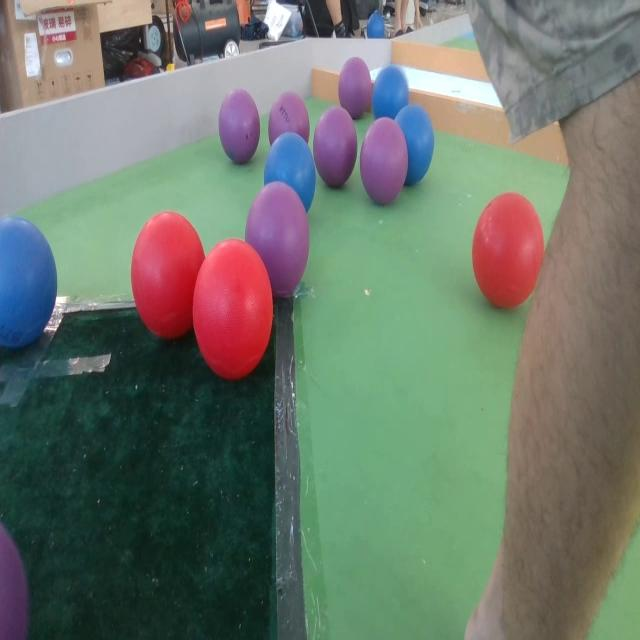blue: (0, 212, 58, 344), (265, 132, 314, 214), (394, 102, 436, 188), (372, 66, 409, 127)
invalid: (250, 183, 312, 297), (355, 110, 406, 210), (314, 105, 354, 189), (218, 88, 259, 165), (268, 88, 308, 152), (342, 59, 374, 120)
red: (193, 238, 273, 380), (132, 211, 206, 340), (472, 190, 544, 310)
